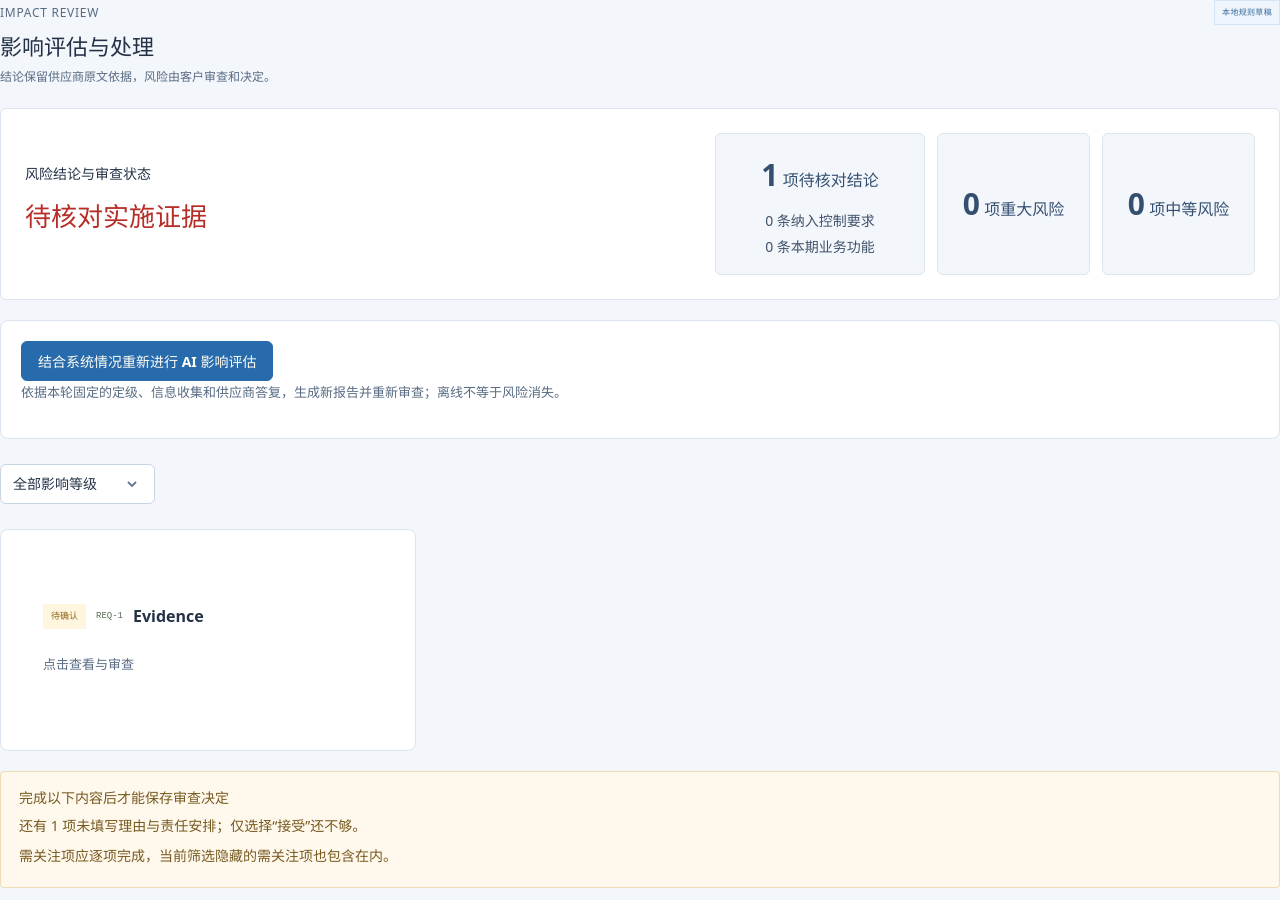
Test: explains why accepted findings still need rationale, including hidden findings
The image size is (1280, 900).
Expected: the message shows "还有 1 项未填写理由与责任安排", [19, 816, 366, 835]
Select "high" in the dropdown named "筛选严重度" at (78, 484), box [0, 464, 155, 504]
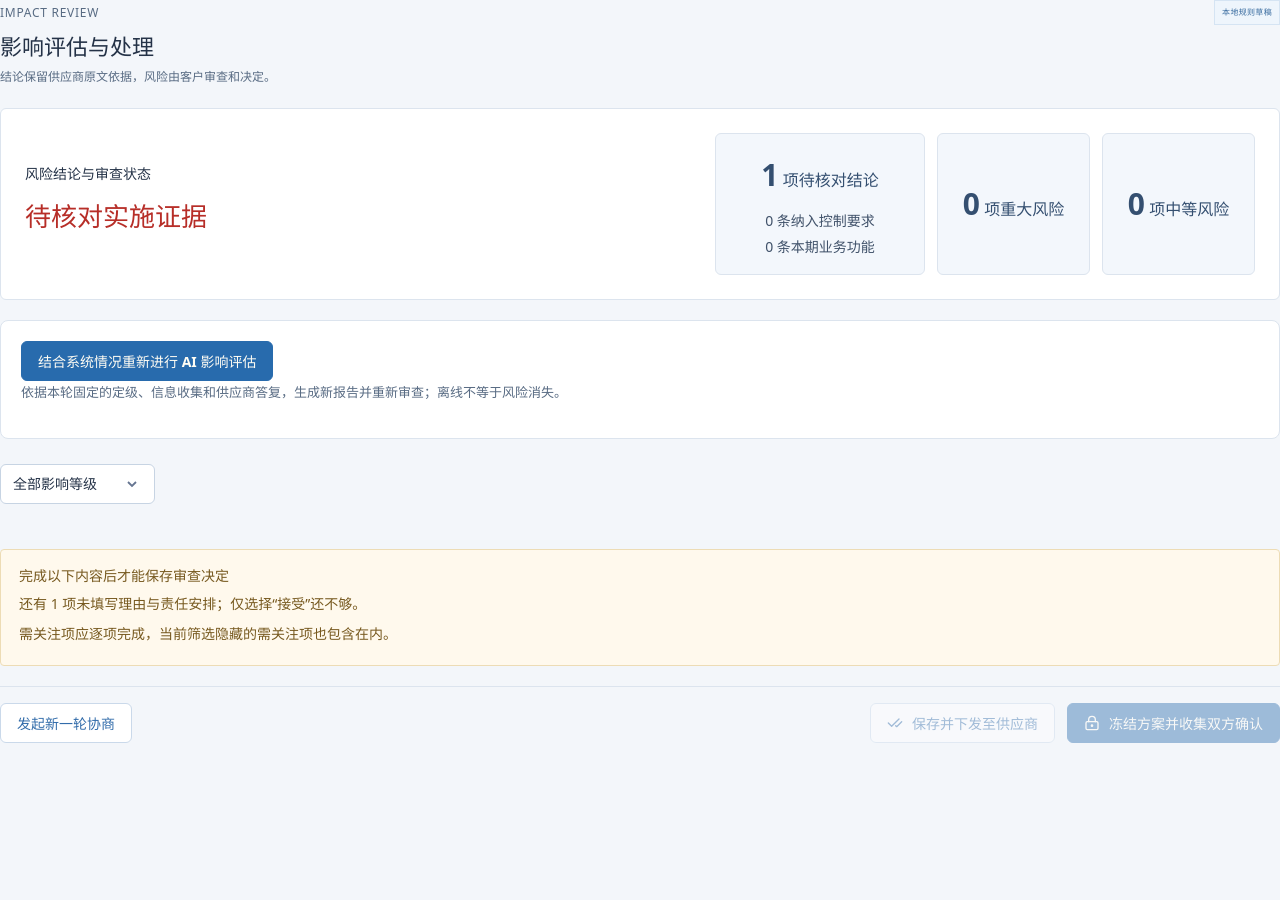
Expected: the message shows "还有 1 项未填写理由与责任安排", [19, 594, 366, 613]
Select "全部影响等级" in the dropdown named "筛选严重度" at (78, 484), box [0, 464, 155, 504]
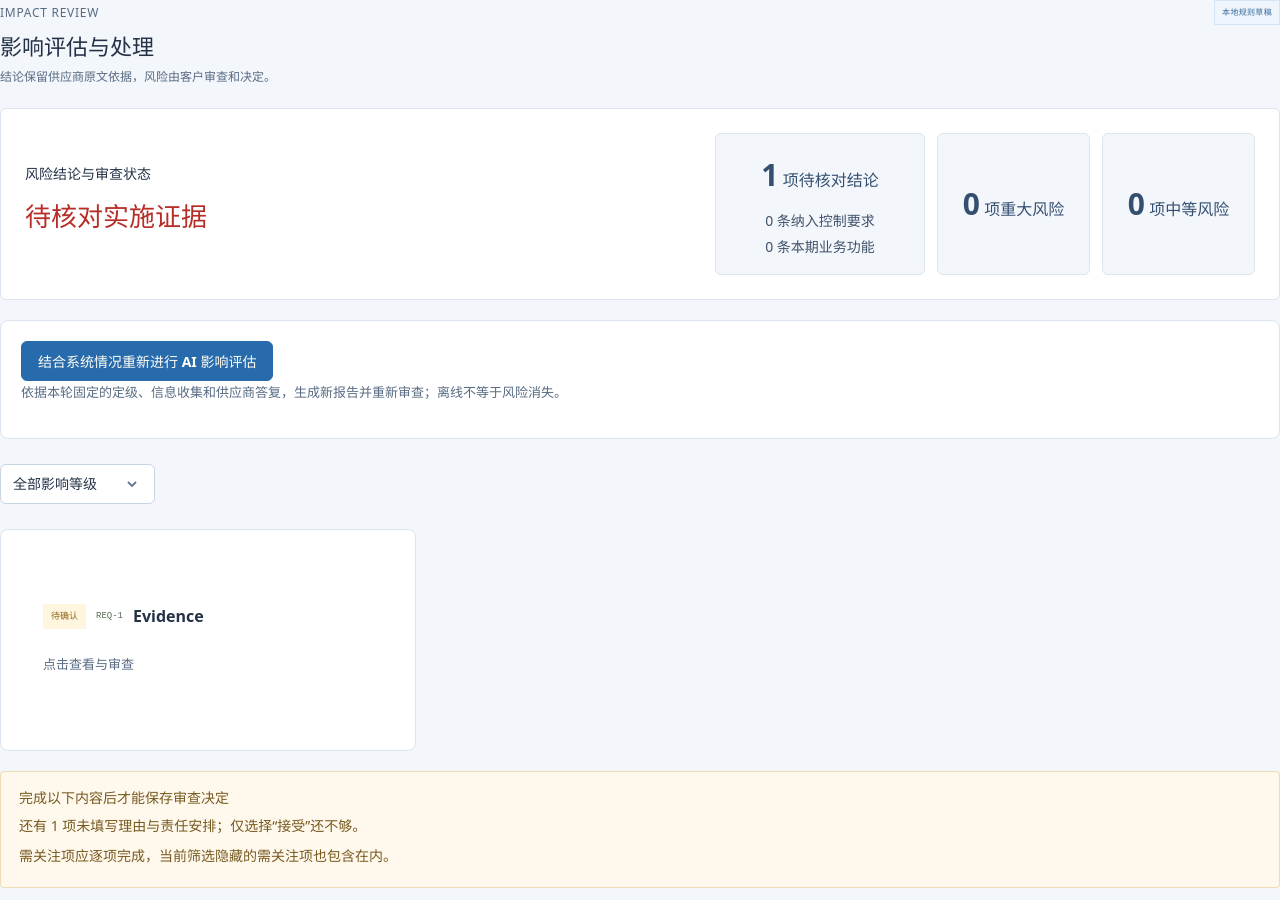
Click the button "待确认 REQ-1 Evidence 点击查看与审查" at (65, 617), box [21, 550, 395, 730]
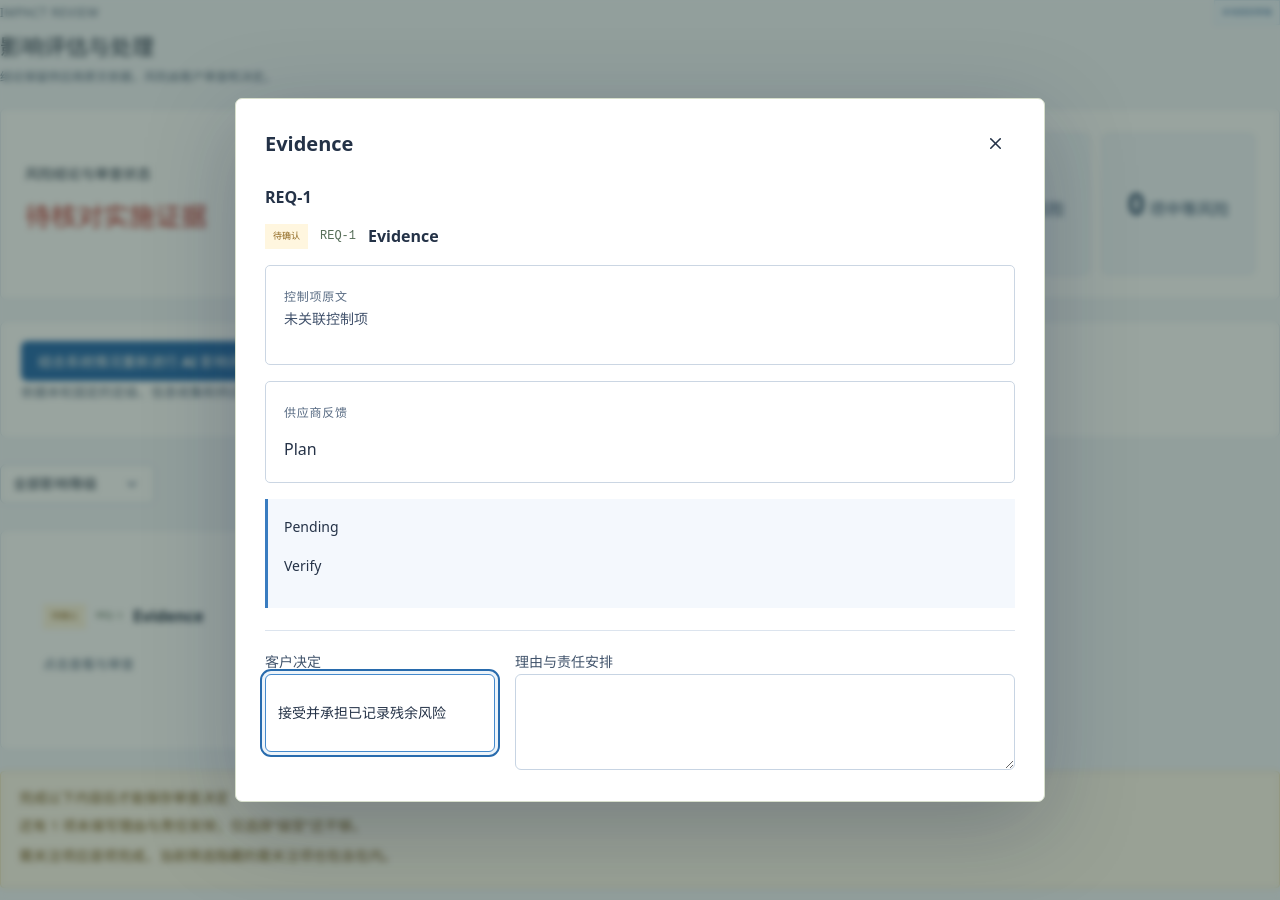
Expected: the dialog is shown, [235, 98, 1045, 802]
Type "Owner will verify evidence before release" into the text box labelled "理由与责任安排" at (765, 722), box [515, 674, 1015, 770]
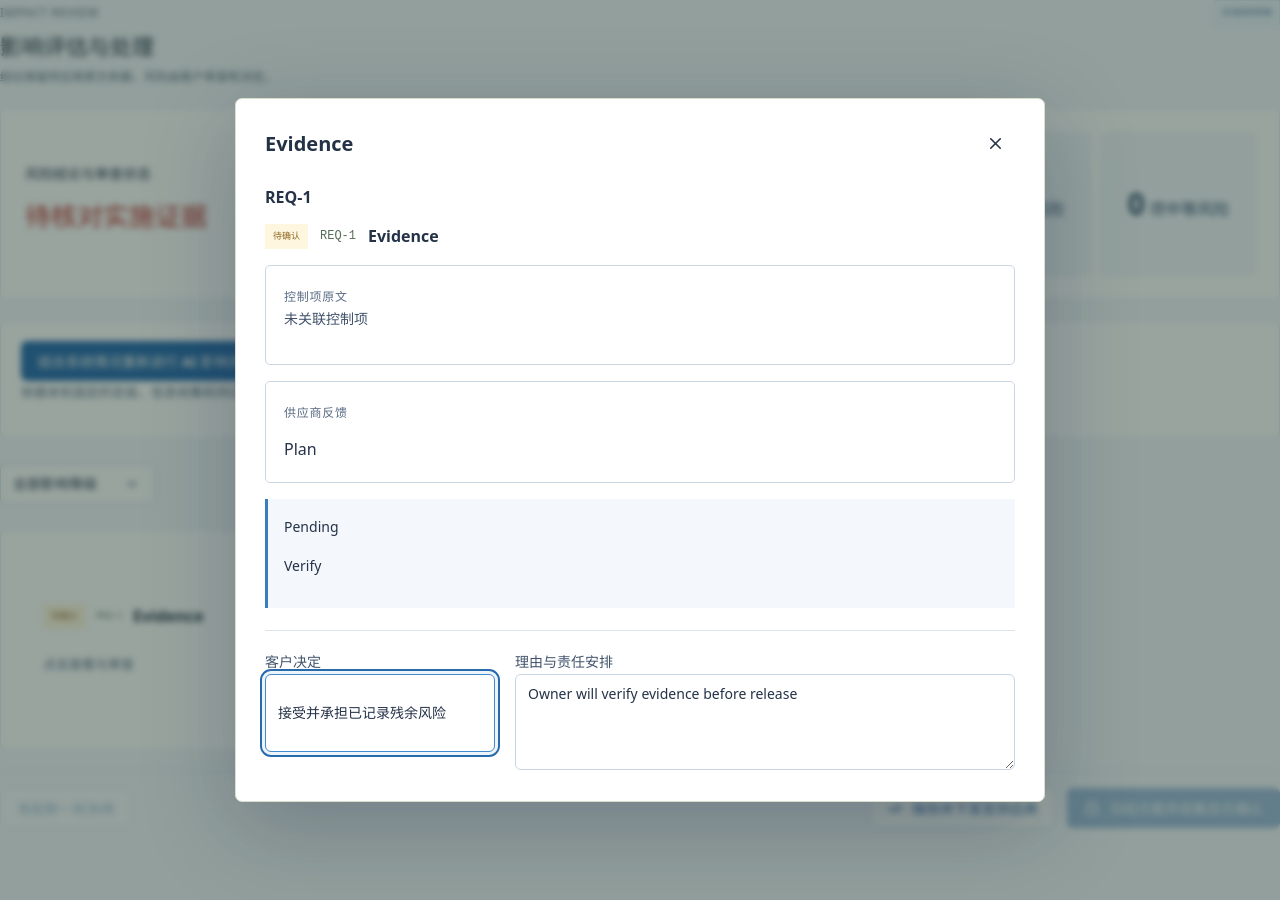
Expected: the button "保存并下发至供应商" is enabled, [870, 788, 1055, 828]
Expected: the message "完成以下内容后才能保存审查决定 还有 1 项未填写理由与责任安排；仅选择“接受”还不够。 需关注项应逐项完成，当前筛选隐藏的需关注项也包含在内。" is gone
